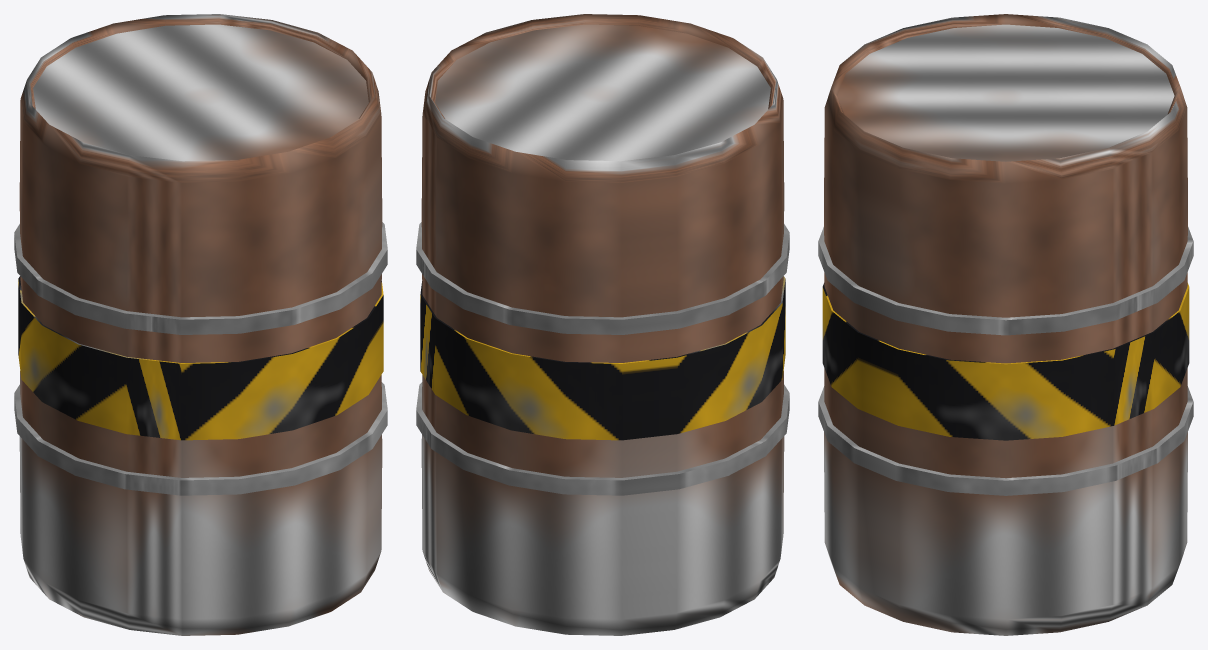
File: barrel.obj
3 views of the same model, side by side, from view 1: azimuth 30°, elevation 25°; view 2: azimuth 150°, elevation 25°; view 3: azimuth 270°, elevation 25° (orthographic).
Bounding box in the file's own units: 0.89 × 1.24 × 0.89.
Materials: 3 (3 with a texture image).
